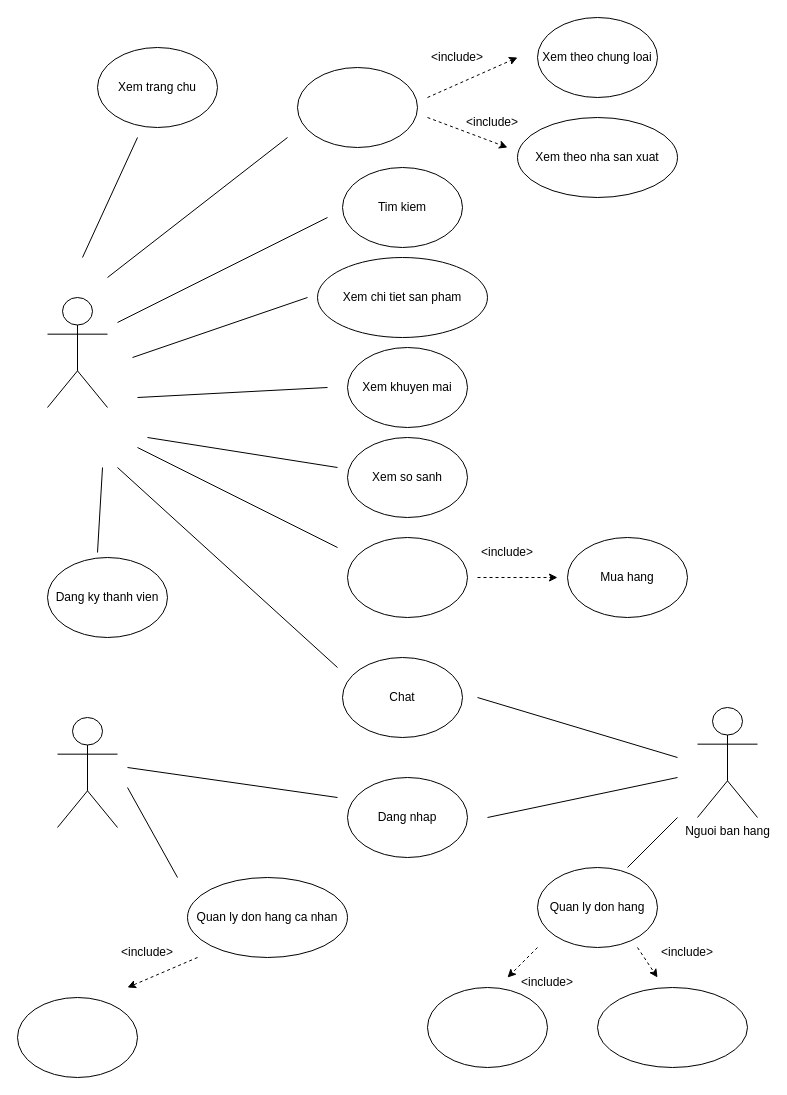
This 787x1095 diagram has some shape labels left out. The centre of each missing label's shape, as x and y in pixels:
Khach hang: pixel 87 772
Khach hang tiem nang: pixel 77 352
Quan ly gio hang: pixel 407 577
Thanh toan: pixel 77 1037
Thay doi chuyen hang: pixel 672 1027
Thu tien: pixel 487 1027
Xem san pham: pixel 357 107
